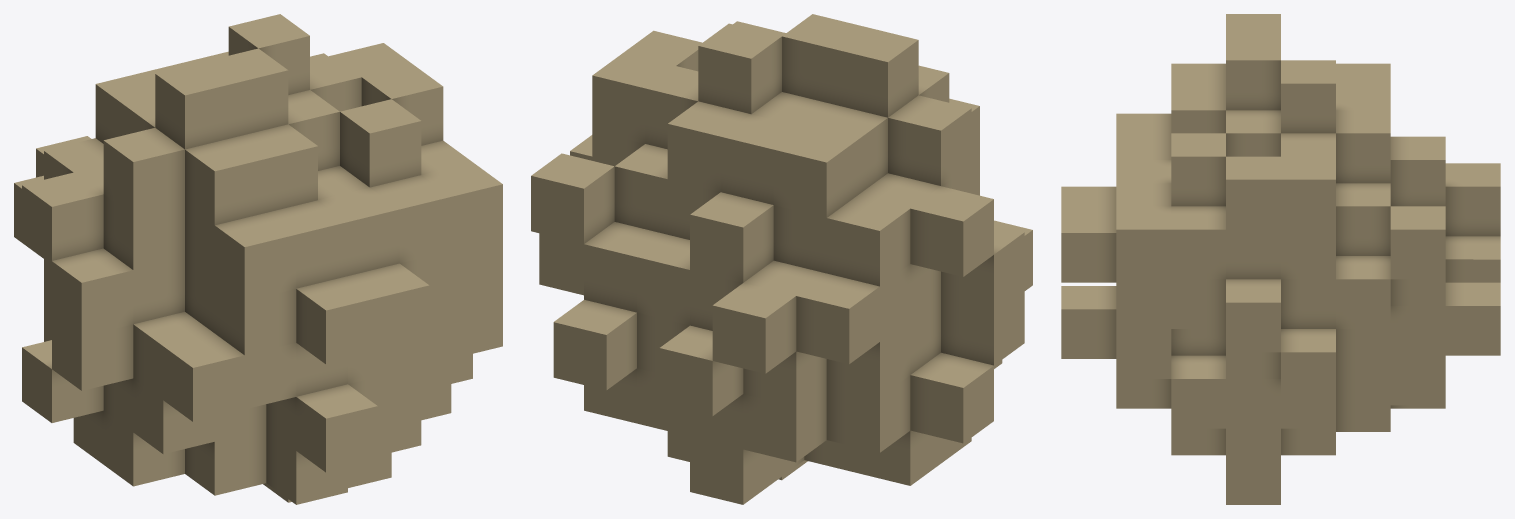
Rendered from cm_puff_s.glb.
3 views of the same model, side by side, from view 1: azimuth 30°, elevation 25°; view 2: azimuth 150°, elevation 25°; view 3: azimuth 270°, elevation 25° (orthographic). The views are drawn at different scales.
Parts seen in each view (by area): view 1: cm_puff_s_body; view 2: cm_puff_s_body; view 3: cm_puff_s_body.
Part boxes in pixels (x1,y1,x2,y2): cm_puff_s_body: (14,14,502,504); cm_puff_s_body: (531,14,1032,504); cm_puff_s_body: (1061,14,1500,504).
Size of the model in its own units: 1 by 1 by 1.
1 material, 1 textured.
